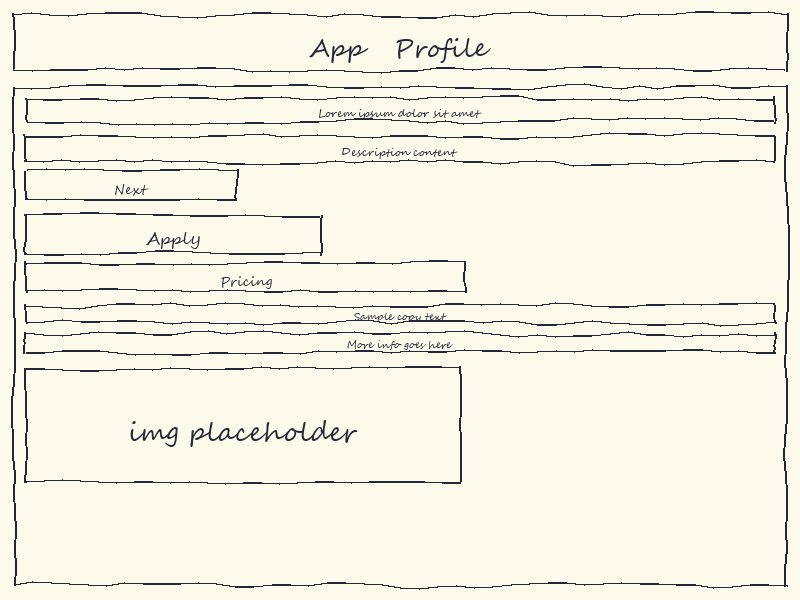card: (26, 368, 461, 482), (26, 136, 774, 162), (26, 98, 774, 123), (26, 333, 774, 353), (26, 305, 774, 323), (26, 262, 466, 292), (26, 215, 320, 254), (26, 170, 237, 200)
navbar: (14, 14, 786, 70)
section: (14, 86, 786, 586)
